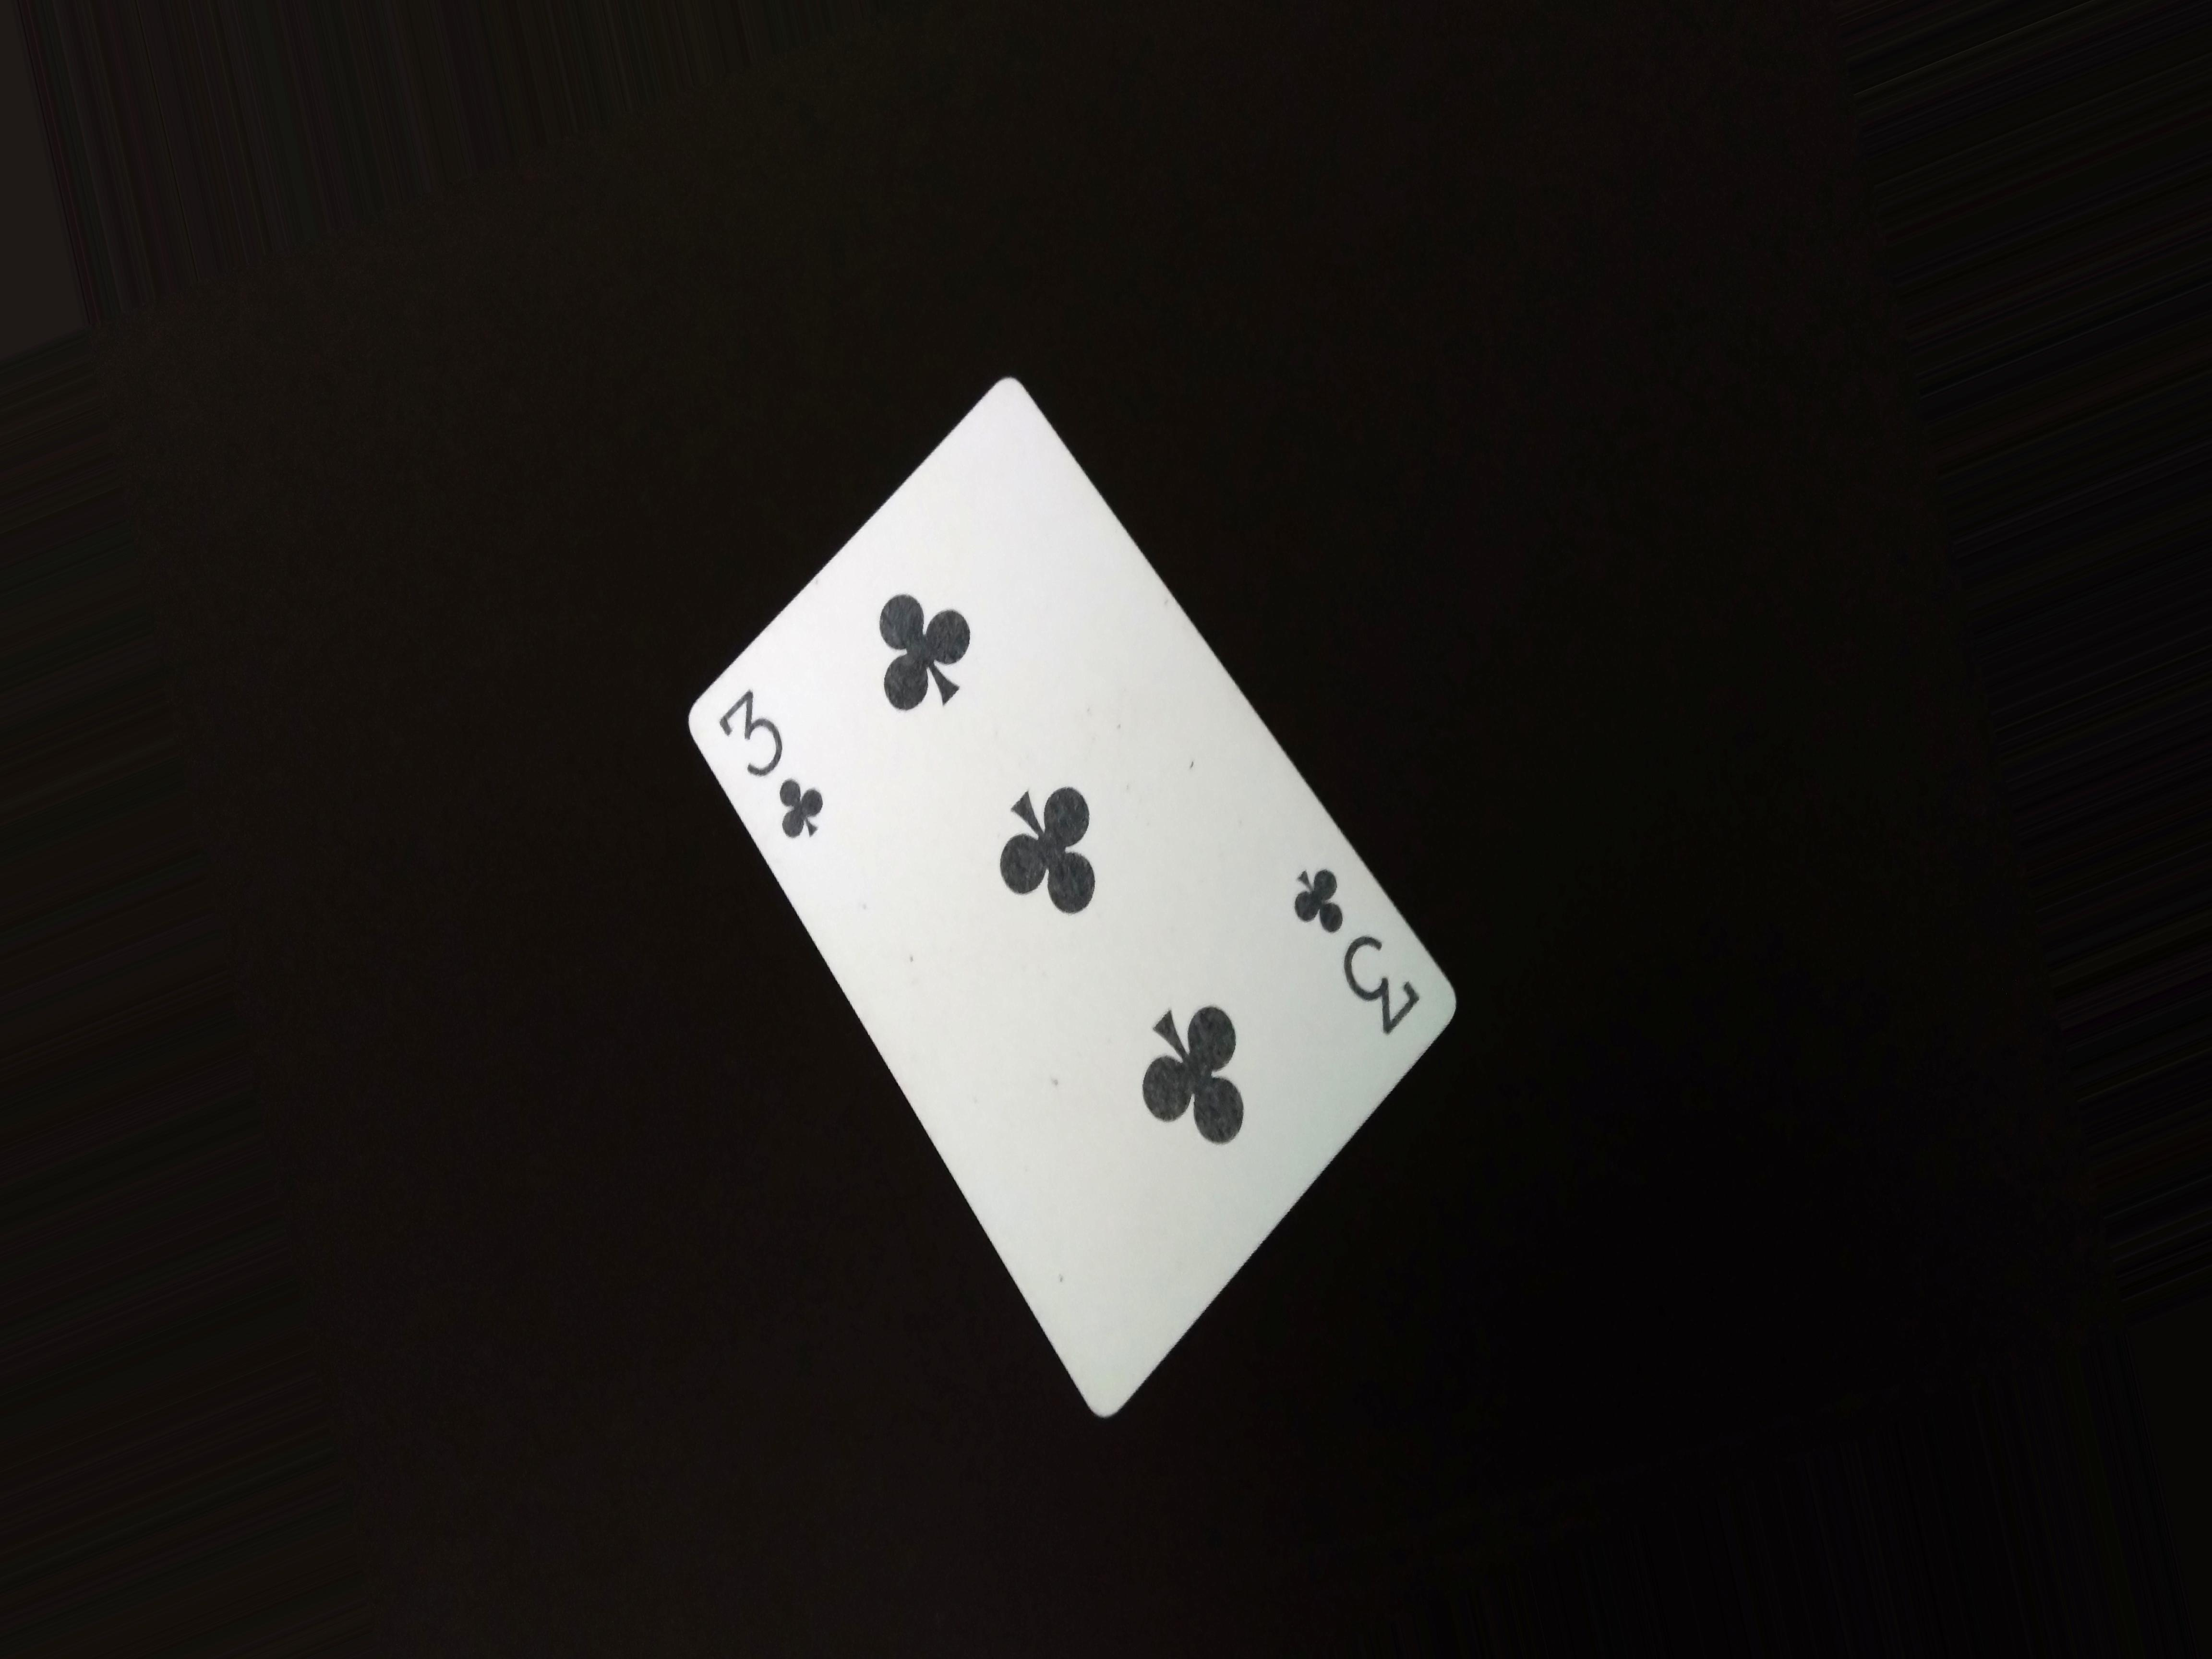3C: (700, 692, 855, 854)
